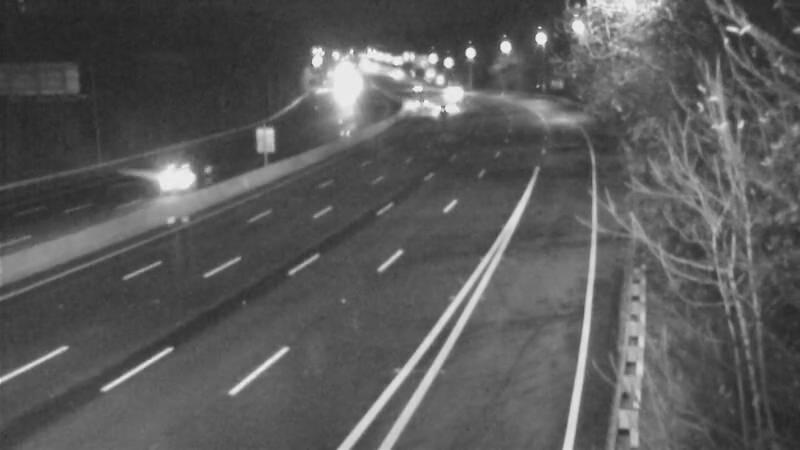vehicle: (138, 144, 218, 224), (430, 66, 480, 116), (394, 64, 444, 114), (380, 80, 430, 130), (413, 87, 463, 137)
